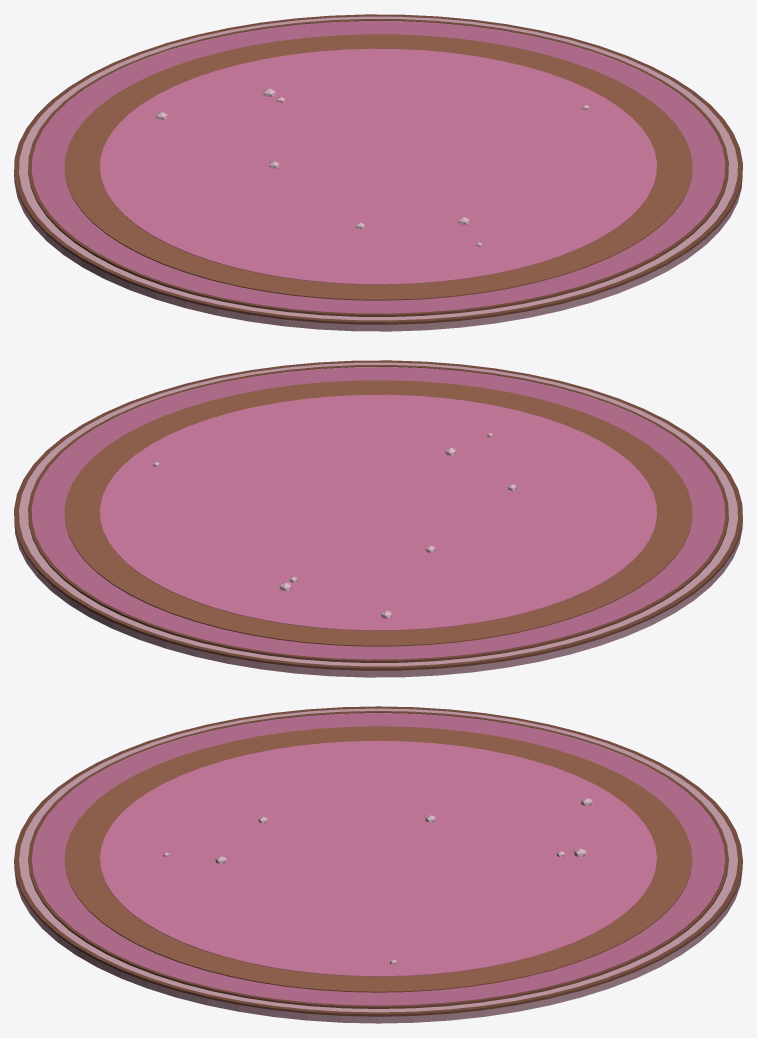
File: goo_jar_foot@candy.fbx
3 renders of one model, top to bottom at view 1: azimuth 30°, elevation 25°; view 2: azimuth 150°, elevation 25°; view 3: azimuth 270°, elevation 25°, orthographic.
Parts seen in each view (by area): view 1: goo_jar_foot; view 2: goo_jar_foot; view 3: goo_jar_foot.
Boxes of the visible parts, <box> form: goo_jar_foot: <box>14,14,742,331</box>; goo_jar_foot: <box>14,360,742,677</box>; goo_jar_foot: <box>14,706,742,1023</box>.
Size of the model in its own units: 80.1 by 2.08 by 80.1.
